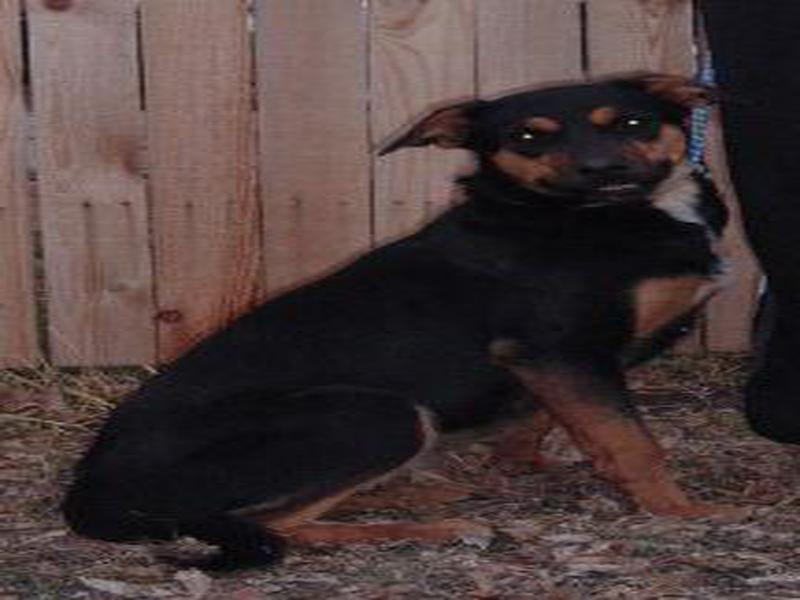dog: (47, 63, 740, 579)
